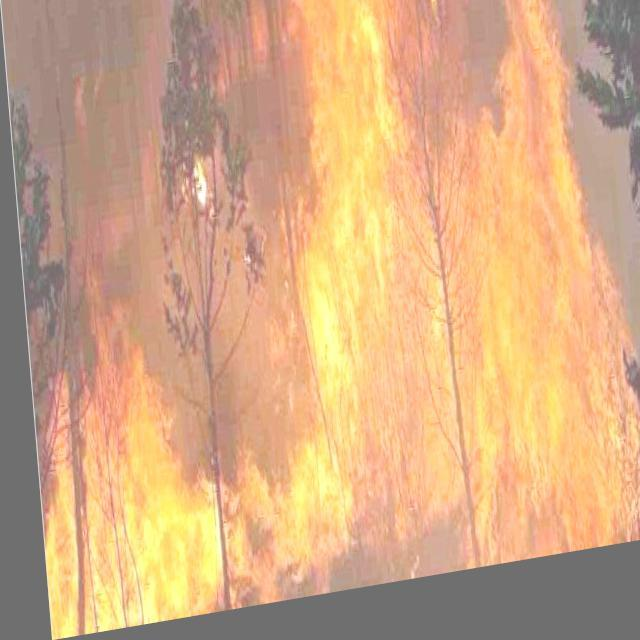Fire: (4, 0, 639, 636)
